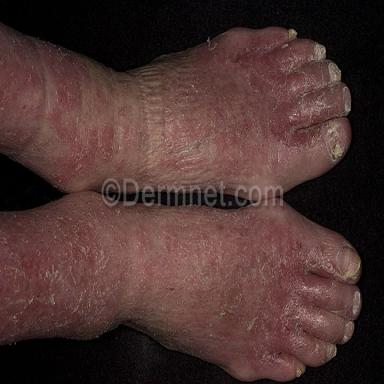eczema: (0, 193, 361, 380), (0, 25, 350, 191)
